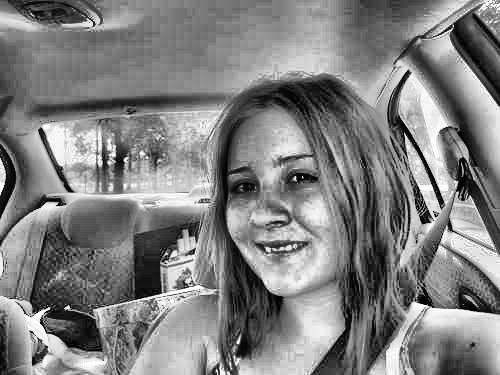seatbelt: (326, 176, 477, 360)
